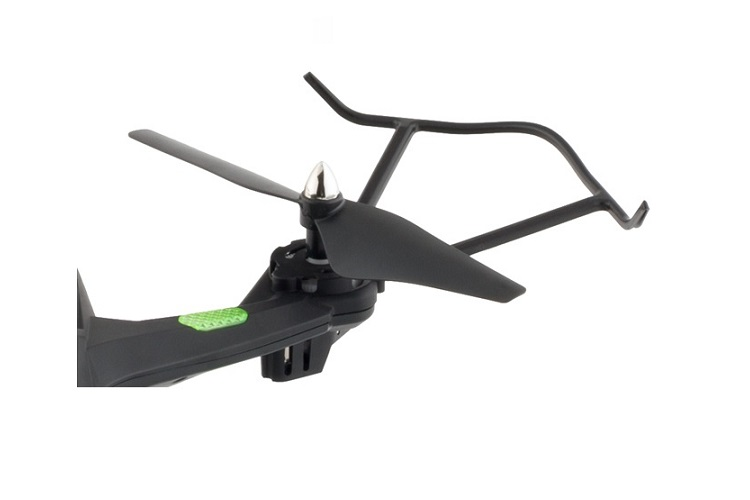drone_rotary_wing: (127, 127, 528, 305)
